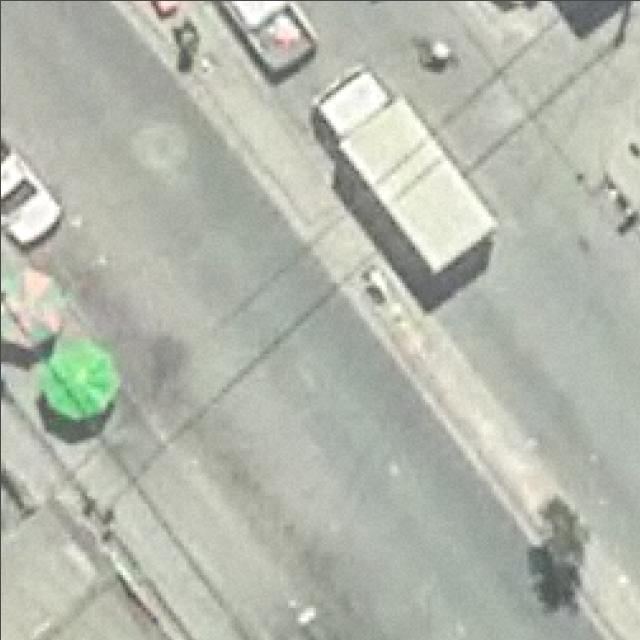vendedor_ambulante: (30, 332, 122, 424), (0, 265, 64, 356)
